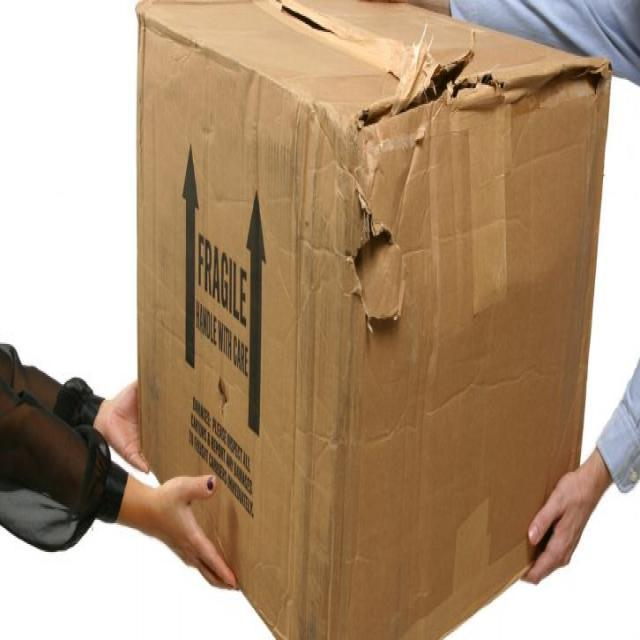hole: (357, 199, 404, 339), (430, 61, 502, 120)
